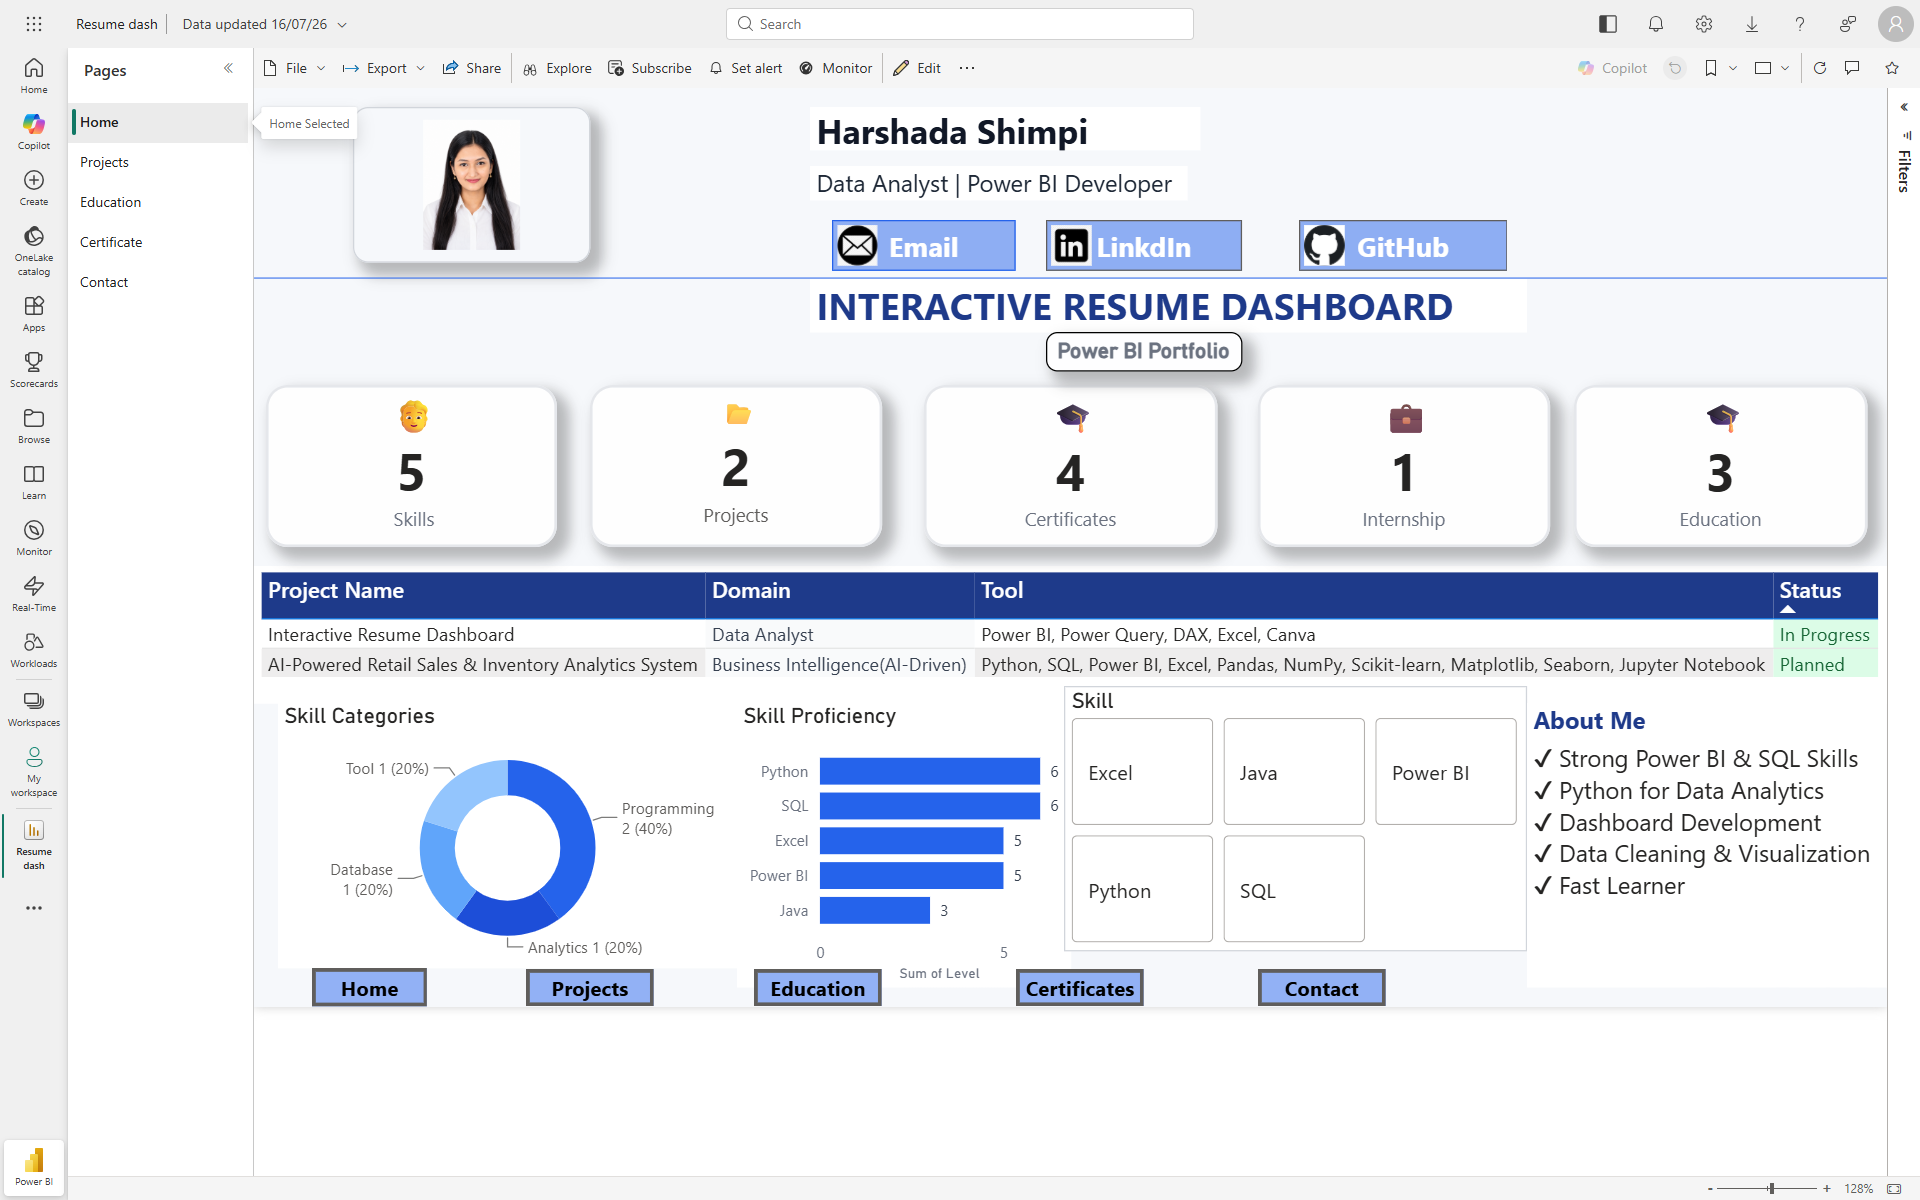

The dashboard page shown, as its layout file describes it:
{"tool":"powerbi","page":{"name":"Home","canvas":[1280,720],"ordinal":0},"visuals":[{"type":"clusteredBarChart","title":"Skill Proficiency","fields":{"Y":["Sum(Skill.Level)"],"Category":["Skill.Skill"]},"box":[378.4,482.4,261.6,222.7],"z":0},{"type":"donutChart","title":"Skill Categories","fields":{"Category":["Skill.Category"],"Y":["CountNonNull(Skill.Skill)"]},"box":[18.5,482.4,359.9,208.1],"z":1000},{"type":"tableEx","fields":{"Values":["Projects.Project","Projects.Domain","Projects.Tool","Projects.Status"]},"box":[0,374.5,1280,108],"z":2000},{"type":"textbox","title":"              Harshada Shimpi","box":[435.7,14.6,306.4,34],"z":3000},{"type":"textbox","title":"  Data Analyst | Power BI Developer","box":[435.7,61.3,295.7,27.2],"z":4000},{"type":"card","title":"🧑","fields":{"Values":["CountNonNull(Skill.Skill)"]},"box":[9.7,232.5,228,127],"z":5000},{"type":"card","title":"📂","fields":{"Values":["CountNonNull(Projects.Project)"]},"box":[263.6,232.5,228.6,127.4],"z":6000},{"type":"card","title":"🎓","fields":{"Values":["CountNonNull(Certifications.Certificate)"]},"box":[525.2,232.5,229.5,127.4],"z":7000},{"type":"card","title":"💼","fields":{"Values":["CountNonNull(Experience.Type)"]},"box":[786.9,232.5,228.6,127.4],"z":8000},{"type":"card","title":"🎓","fields":{"Values":["CountNonNull(Education.Degree)"]},"box":[1034.9,232.5,229.5,127.4],"z":9000},{"type":"textbox","title":"INTERACTIVE RESUME DASHBOARD","box":[435.7,149.8,562.2,41.8],"z":10000},{"type":"textbox","title":"Power BI  Portfolio","box":[620.5,191.6,153.7,31.1],"z":11000},{"type":"advancedSlicerVisual","fields":{"Values":["Skill.Skill"]},"box":[635.1,468.8,362.8,208.1],"z":12000},{"type":"textbox","title":"About Me","box":[997.9,482.4,282.1,222.7],"z":14000},{"type":"image","box":[77.8,14.6,185.8,121.6],"z":15000},{"type":"actionButton","title":"Home","box":[45.7,689.6,90.5,30.2],"z":16000},{"type":"actionButton","title":"Projects","box":[213,690.6,100.2,29.2],"z":17000},{"type":"actionButton","title":"Experince","box":[392,690.6,100.2,29.2],"z":18000},{"type":"actionButton","title":"Certificates","box":[597.2,690.6,100.2,29.2],"z":19000},{"type":"actionButton","title":"Contact","box":[786.9,690.6,100.2,29.2],"z":20000},{"type":"actionButton","box":[620.5,103.1,153.7,39.9],"z":21000},{"type":"actionButton","box":[819,103.1,163.4,39.9],"z":22000},{"type":"actionButton","box":[453.3,103.1,144,39.9],"z":23000},{"type":"shape","box":[0,143,1280,12.6],"z":24000}]}

Visuals, with their boxes on the page's 1280x720 design canvas (x1, y1, x2, y2). These are canvas units, not pixel positions in the 1920x1200 screenshot, which may show the page scaled, cropped or inside an application window:
"Skill Proficiency" clusteredBarChart: 378,482,640,705
"Skill Categories" donutChart: 18,482,378,690
tableEx - Projects.Project x Projects.Domain: 0,374,1280,482
"              Harshada Shimpi" textbox: 436,15,742,49
"  Data Analyst | Power BI Developer" textbox: 436,61,731,88
"🧑" card: 10,232,238,360
"📂" card: 264,232,492,360
"🎓" card: 525,232,755,360
"💼" card: 787,232,1016,360
"🎓" card: 1035,232,1264,360
"INTERACTIVE RESUME DASHBOARD" textbox: 436,150,998,192
"Power BI  Portfolio" textbox: 620,192,774,223
advancedSlicerVisual - Skill.Skill: 635,469,998,677
"About Me" textbox: 998,482,1280,705
image: 78,15,264,136
"Home" actionButton: 46,690,136,720
"Projects" actionButton: 213,691,313,720
"Experince" actionButton: 392,691,492,720
"Certificates" actionButton: 597,691,697,720
"Contact" actionButton: 787,691,887,720
actionButton: 620,103,774,143
actionButton: 819,103,982,143
actionButton: 453,103,597,143
shape: 0,143,1280,156
